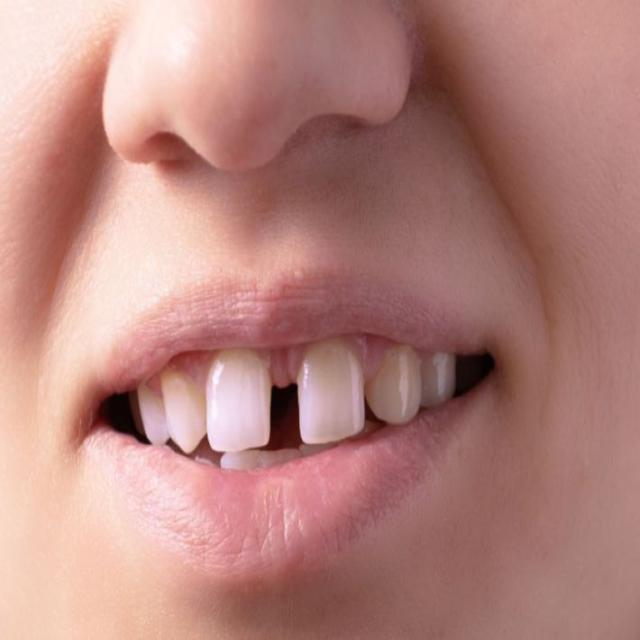tooth: (209, 360, 270, 450), (300, 355, 352, 433), (373, 346, 425, 424), (163, 371, 201, 446), (144, 372, 163, 446), (432, 361, 452, 413)
